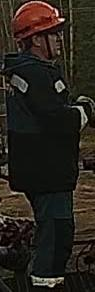gloves: (77, 92, 95, 125)
helmet: (10, 0, 65, 40)
vest: (2, 55, 81, 194)
